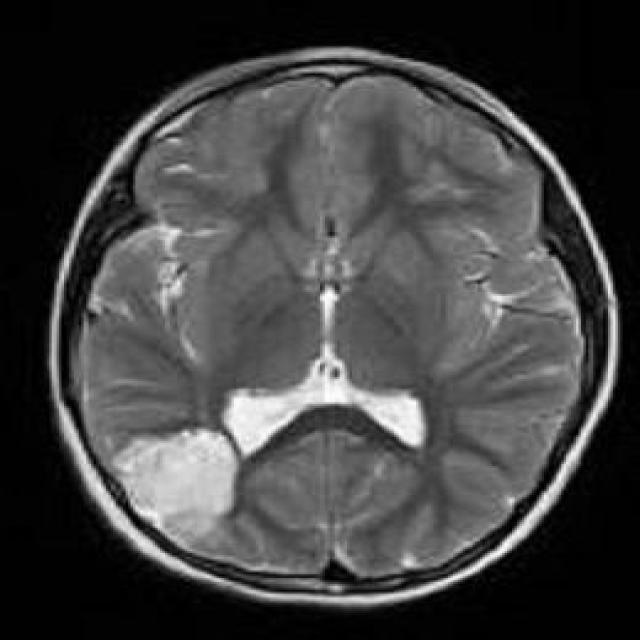Tumor-Cell: (107, 389, 230, 548)
